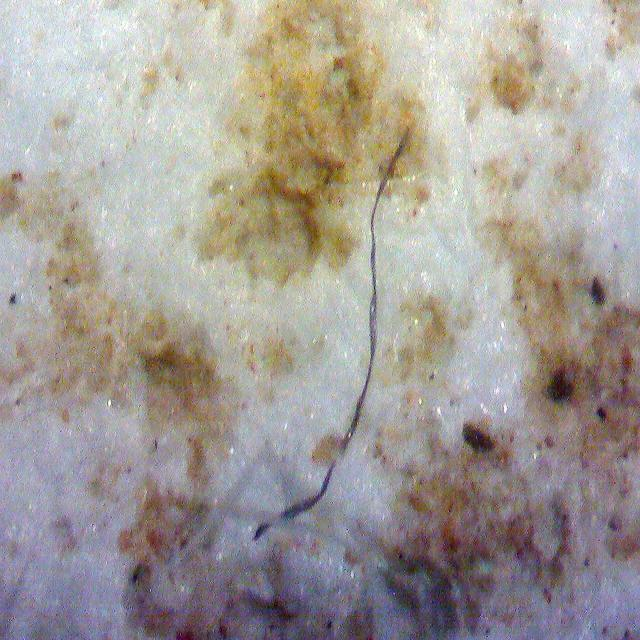microplastic: (250, 126, 412, 540)
